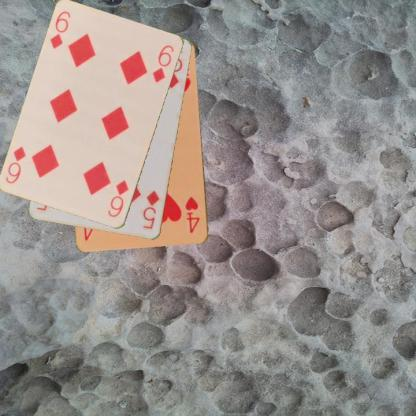4h: (183, 194, 201, 235)
5d: (140, 189, 162, 231)
6d: (105, 177, 130, 219), (47, 9, 72, 51)
